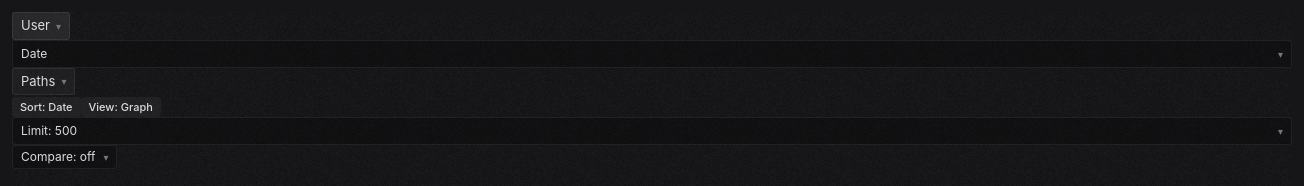
GitHistoryFilters › compact menus › User menu: Select… searches authors, picks one and remembers it
Click the button with class "git-branches__user-button" at [41, 26], box [12,12,70,40]
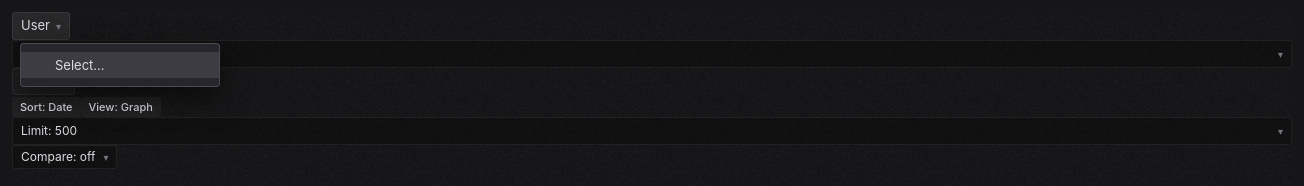
expect the menu with class "git-history-menu__menu" reads "Select…": met, box [55,57,105,73]
Click the menu item with class "git-history-menu__row" at [120, 65], box [21,52,219,78]
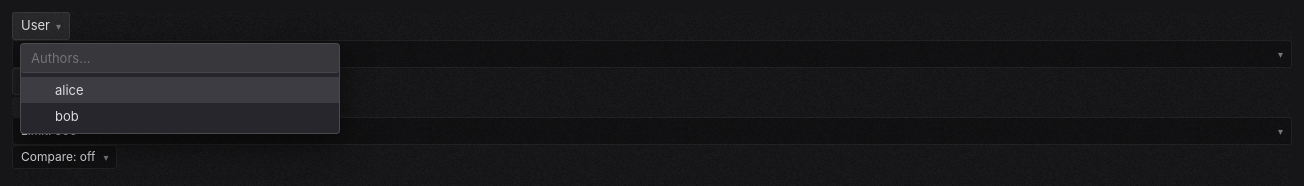
Type "bo" into the search field named "Search authors" at [180, 58], box [21,44,339,73]
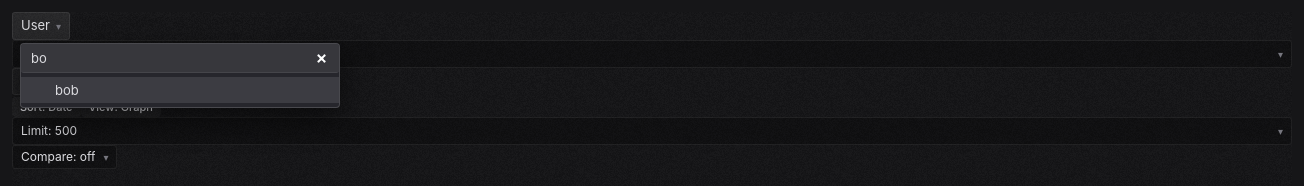
Press Enter in the menu with class "git-history-menu__menu", box [20,43,340,108]
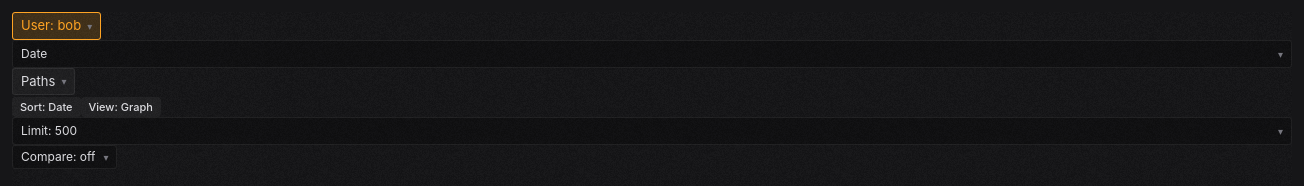
expect the menu with class "git-history-menu__menu" is gone: met
